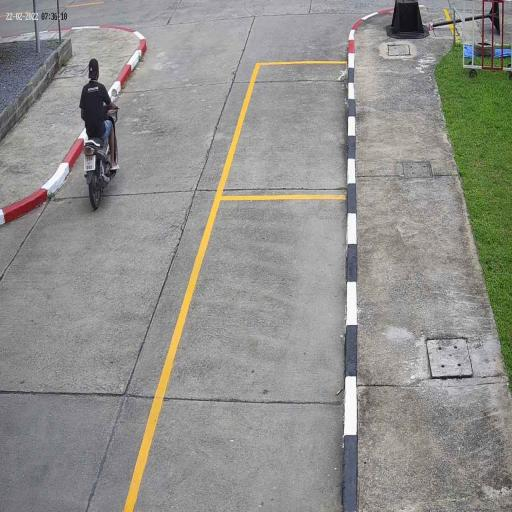motorcycle: (82, 137, 120, 211)
